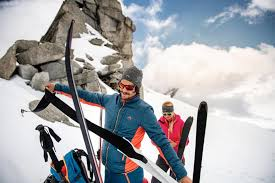skis: (47, 19, 176, 183), (173, 102, 210, 183)
